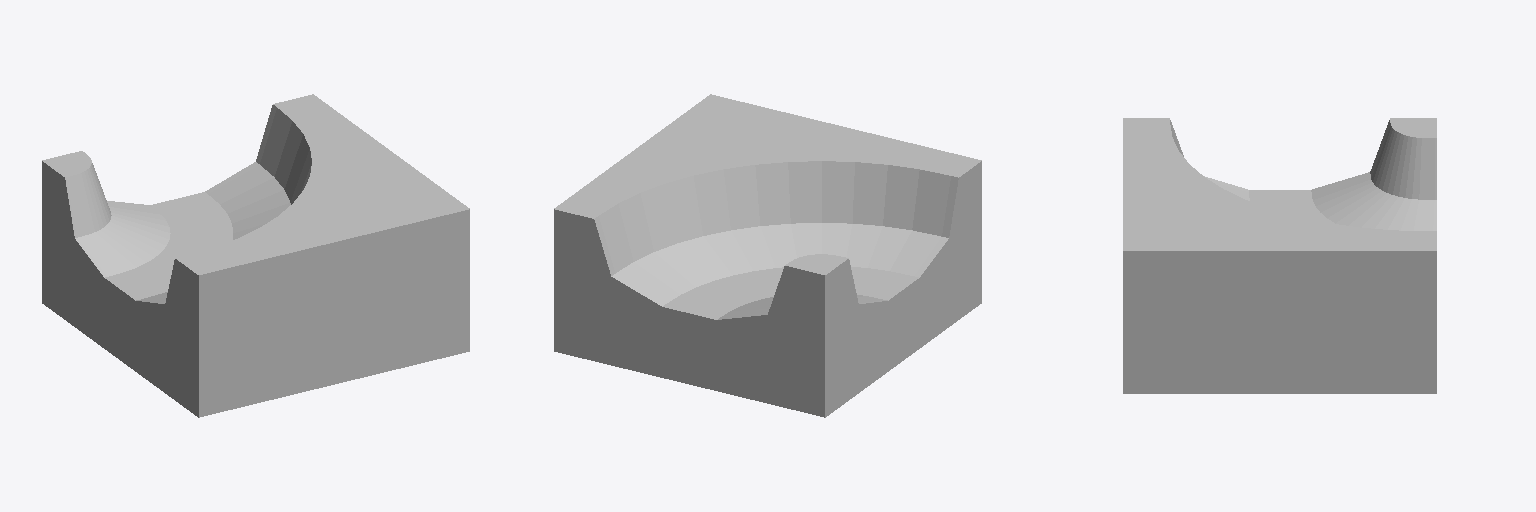
The model's file is corner-solid.obj.
3 renders of one model, left to right at view 1: azimuth 30°, elevation 25°; view 2: azimuth 150°, elevation 25°; view 3: azimuth 270°, elevation 25°, orthographic.
Parts seen in each view (by area): view 1: corner-solid; view 2: corner-solid; view 3: corner-solid.
Boxes of the visible parts, <box> form: corner-solid: <box>42,94,469,417</box>; corner-solid: <box>554,94,981,417</box>; corner-solid: <box>1123,118,1436,393</box>.
Bounding box in the file's own units: 1 × 0.5 × 1.